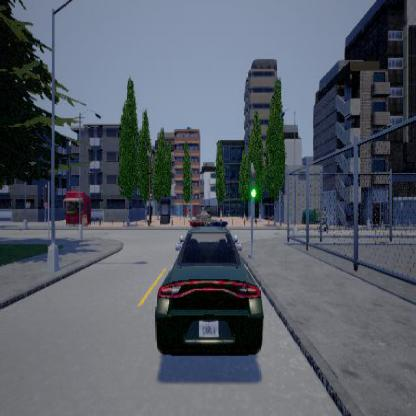traffic_light_green: (250, 164, 256, 203)
vehicle: (154, 220, 263, 355)
